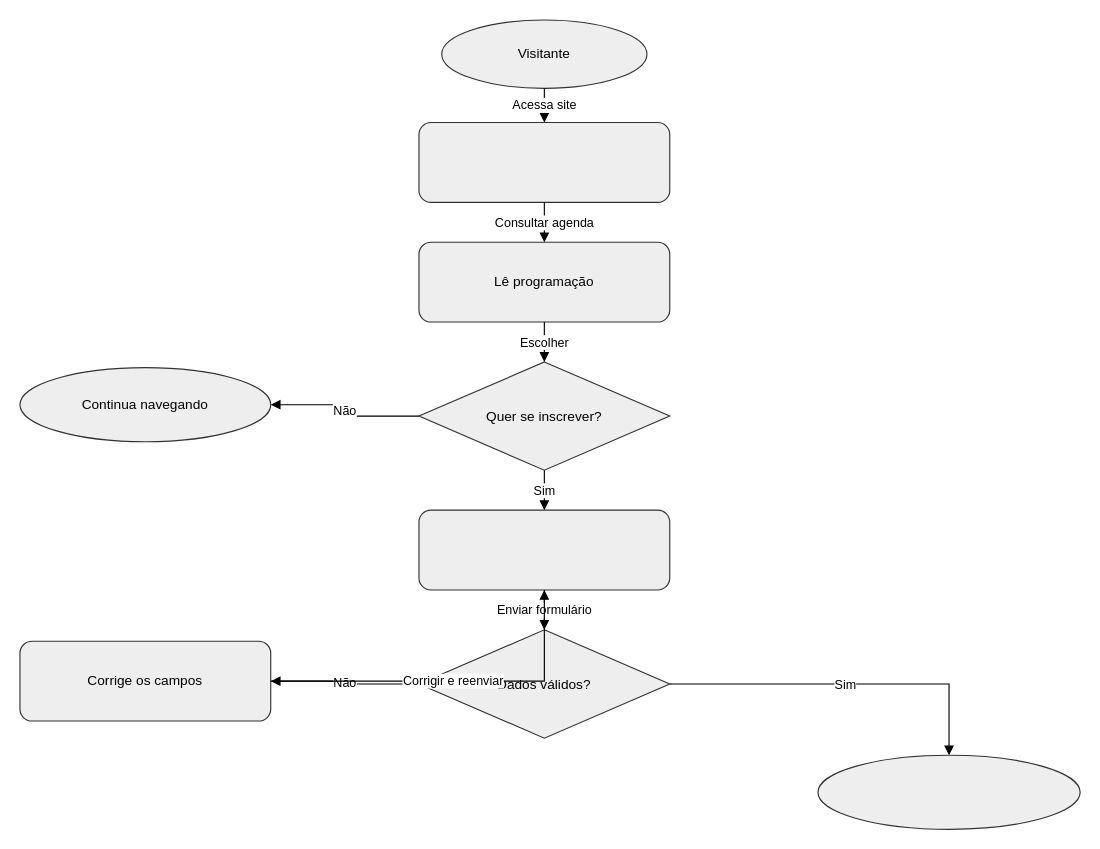
The diagram is 1100 pixels wide and 849 high, and some of its shapes have lost their labels. The shapes that lost their labels are listed below. From the top down, each one's box as (x1, y1, x2, y2) in pixels, then its label:
(418, 121, 670, 202): Página do evento
(418, 509, 670, 590): Preenche formulário
(817, 754, 1080, 829): Inscrição confirmada
